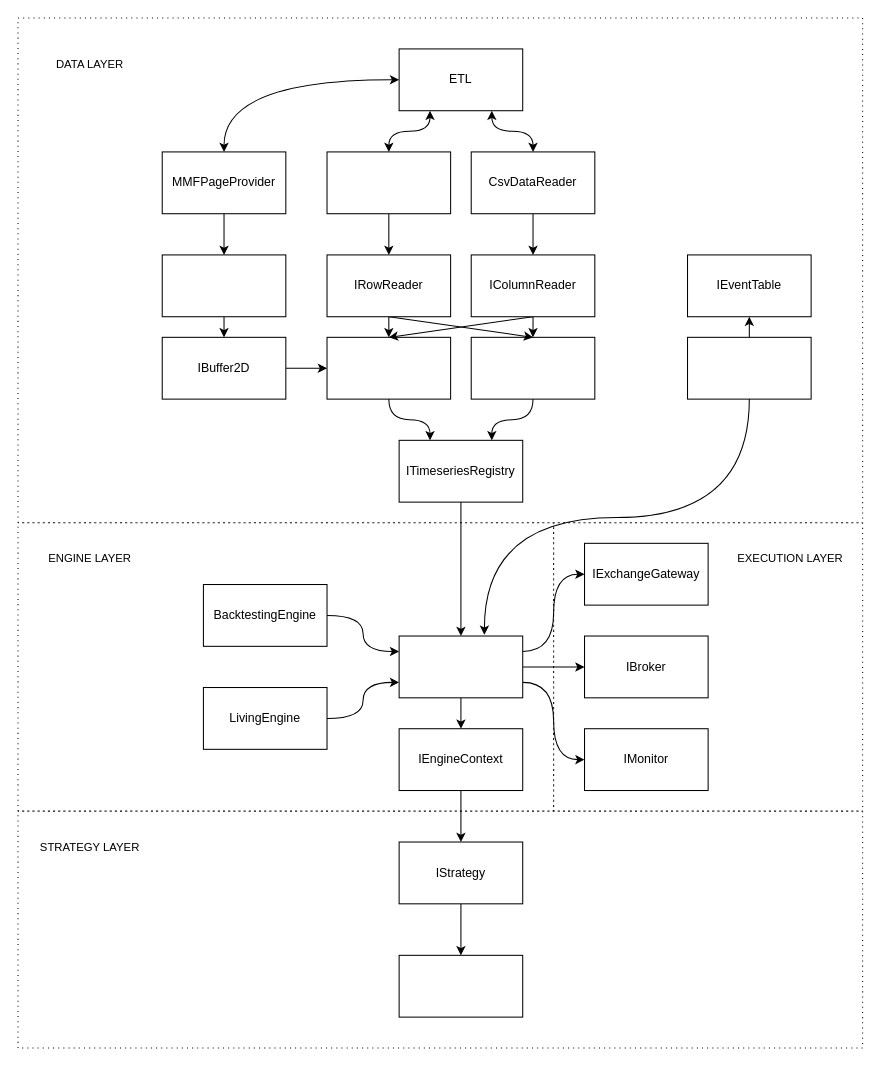
The diagram is 881 pixels wide and 1066 high, and some of its shapes have lost their labels. The shapes that lost their labels are listed below. From the top down, each one's centre as x and y in pixels, then its label:
At point (388, 182): "Parquet Data Reade r".
At point (223, 285): "PagedBuffer2D".
At point (388, 367): "BufferedDataProvider".
At point (532, 367): "StreamDataProvider".
At point (748, 367): "IEventRegistry".
At point (460, 666): "IEngine".
At point (460, 985): "IStrategyPipeline".
